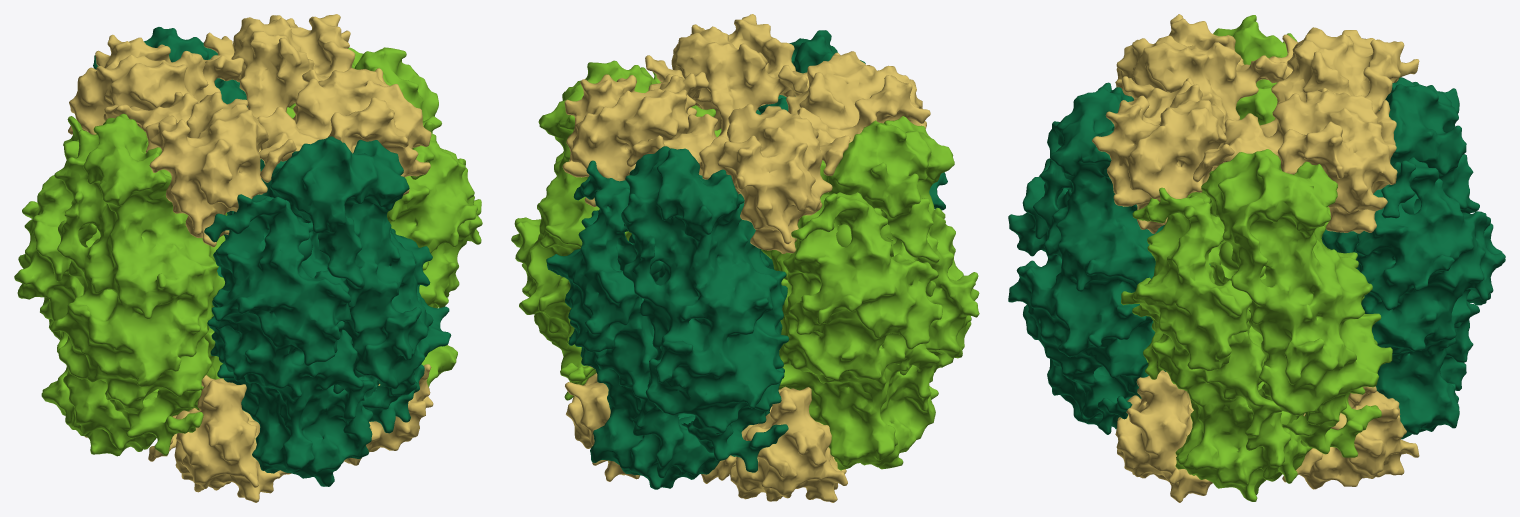
The model's file is rubisco.glb.
3 renders of one model, left to right at view 1: azimuth 30°, elevation 25°; view 2: azimuth 150°, elevation 25°; view 3: azimuth 270°, elevation 25°, orthographic.
Parts seen in each view (by area): view 1: Rubisco_8RUC; view 2: Rubisco_8RUC; view 3: Rubisco_8RUC.
Boxes of the visible parts, x1,y1,x2,y2 form: Rubisco_8RUC: (14, 14, 482, 502); Rubisco_8RUC: (511, 14, 979, 502); Rubisco_8RUC: (1008, 14, 1505, 502).
Size of the model in its own units: 1.33 by 1.12 by 1.32.
